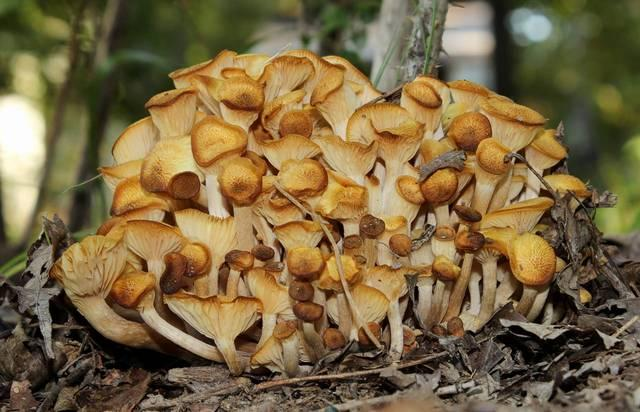edible_mushroom: (49, 47, 592, 376)
